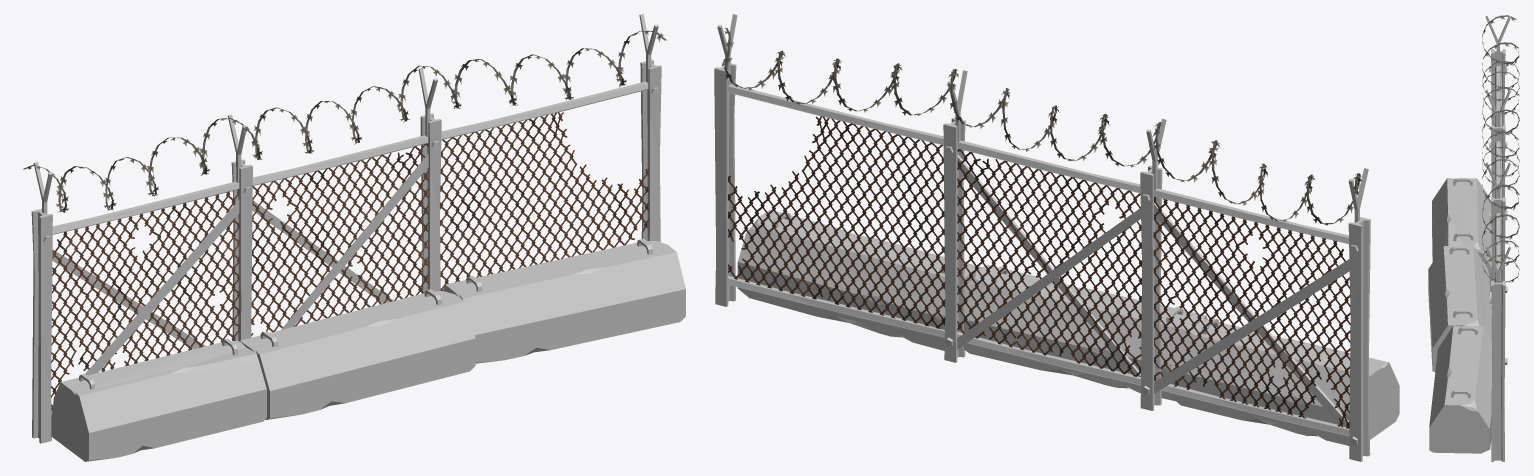
Rendered from SM_Prop_Fence_01.fbx.
3 renders of one model, left to right at view 1: azimuth 30°, elevation 25°; view 2: azimuth 150°, elevation 25°; view 3: azimuth 270°, elevation 25°, orthographic. The views are drawn at different scales.
Parts seen in each view (by area): view 1: SM_Prop_Fence_01; view 2: SM_Prop_Fence_01; view 3: SM_Prop_Fence_01.
Part boxes in pixels (left/top/right/bottom): SM_Prop_Fence_01: left=23, top=14, right=685, bottom=461; SM_Prop_Fence_01: left=714, top=14, right=1399, bottom=461; SM_Prop_Fence_01: left=1428, top=15, right=1519, bottom=461.
Size of the model in its own units: 699 by 290 by 111.
